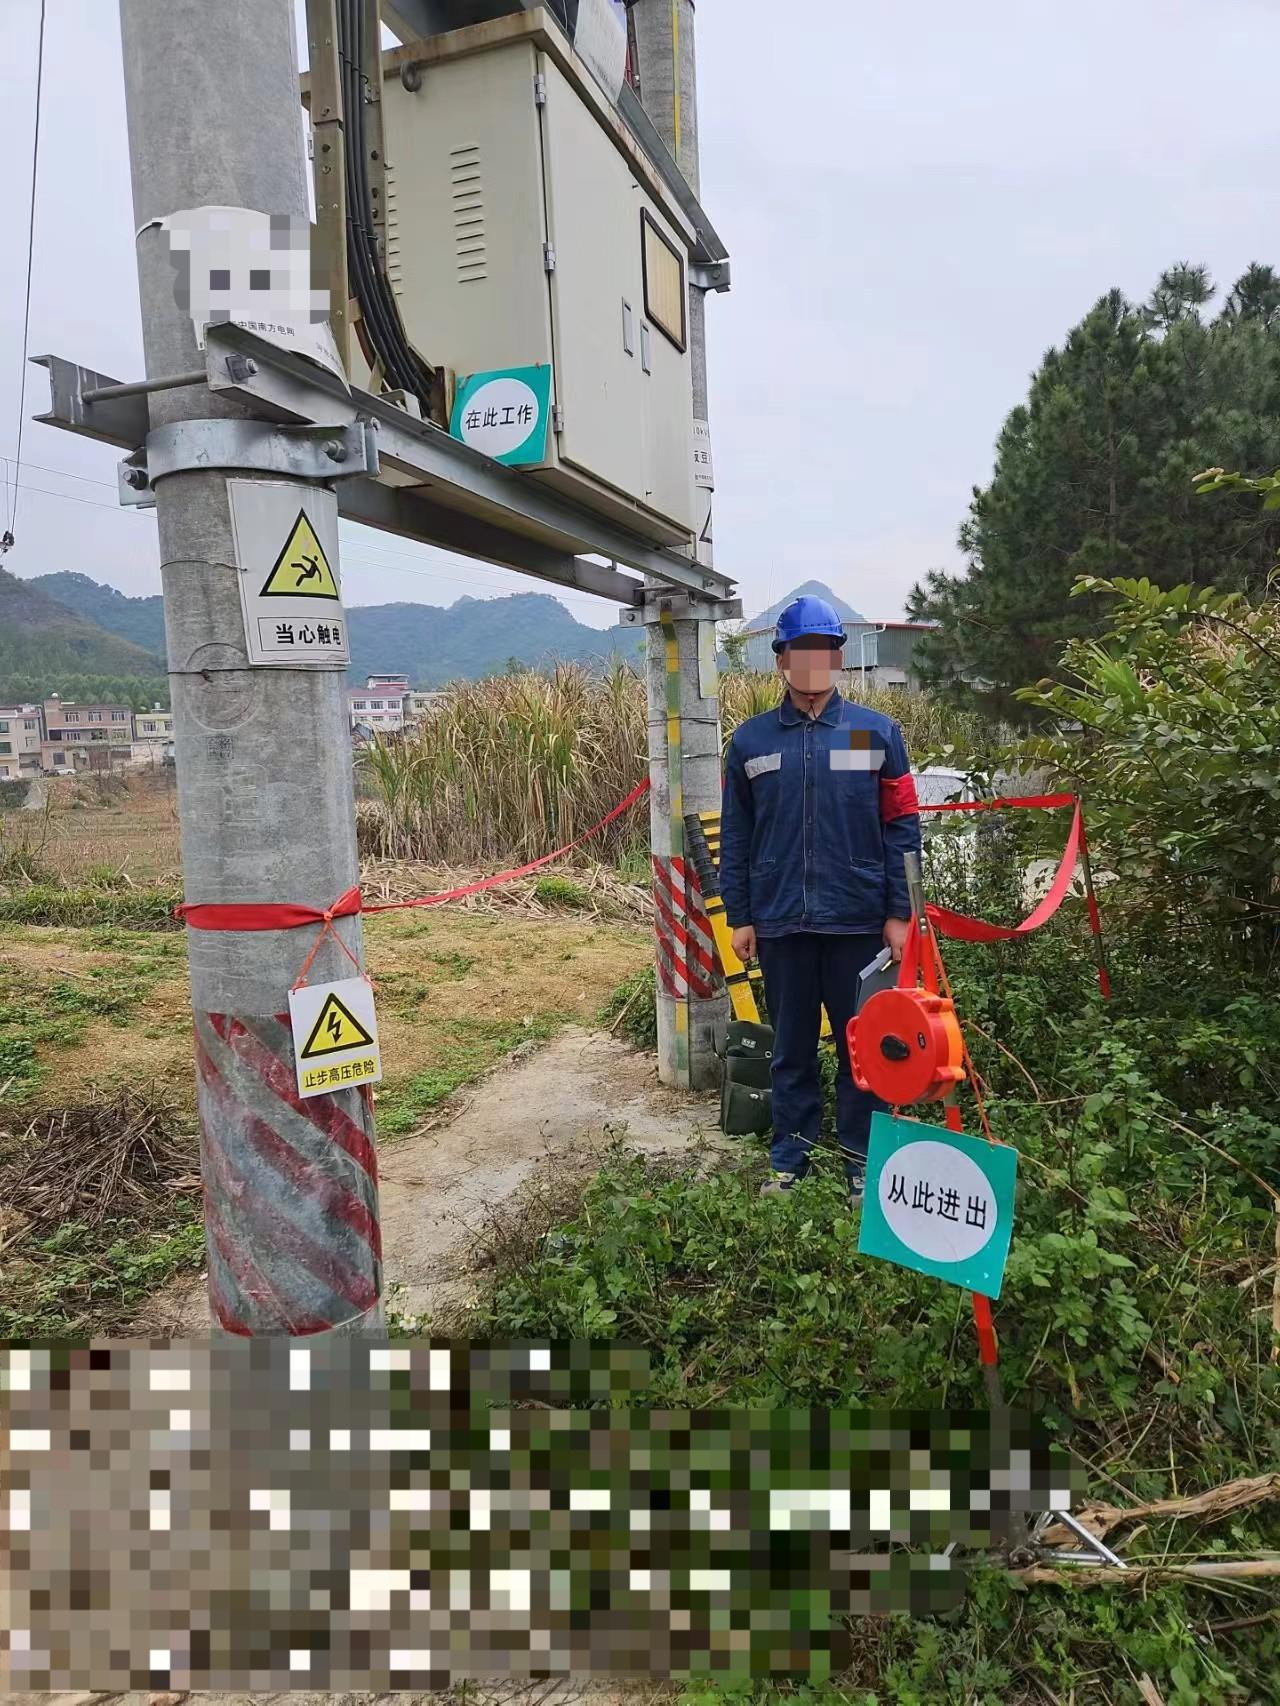halt: (770, 593, 855, 704)
